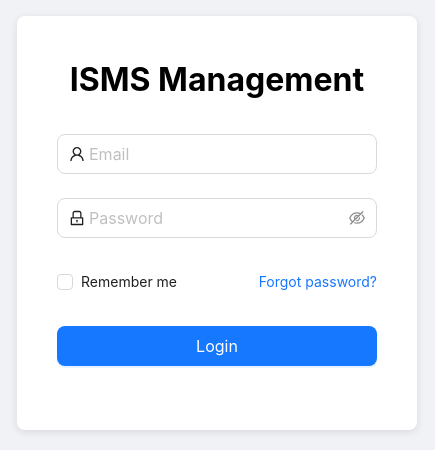
Test: LoginPage › Form Validation › should show error when email is empty
Click the button "Login" at point(217, 346), box [57, 326, 377, 366]
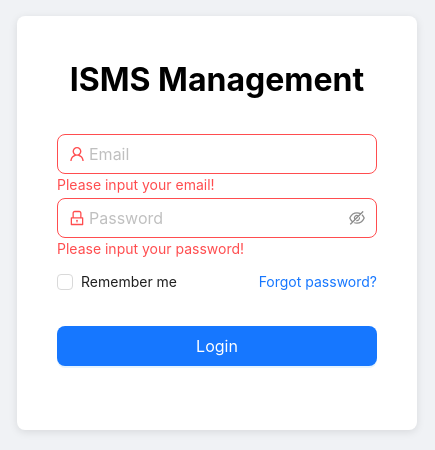
Expected: the text "Please input your email!" is shown, [57, 176, 215, 193]
